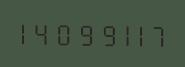four: (36, 19, 54, 46)
nine: (74, 19, 92, 46), (93, 20, 111, 47)
one: (17, 18, 35, 45), (112, 20, 130, 47), (131, 20, 149, 47)
seven: (150, 21, 168, 48)
zero: (55, 19, 73, 46)
